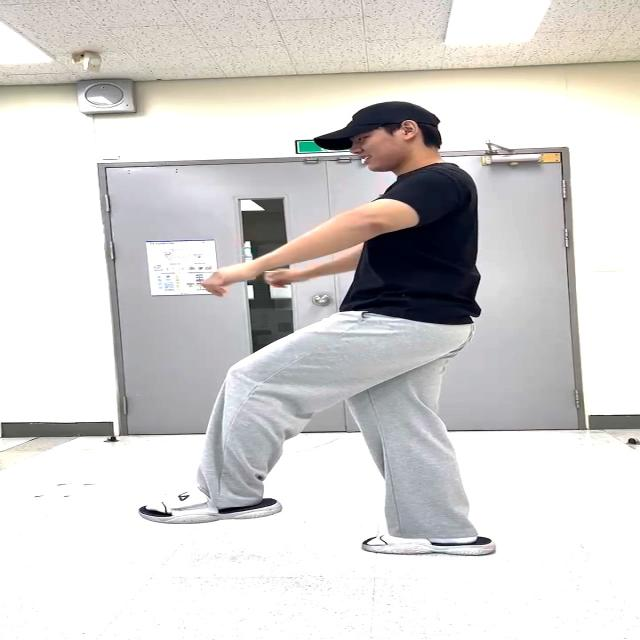leg: (134, 300, 355, 516)
